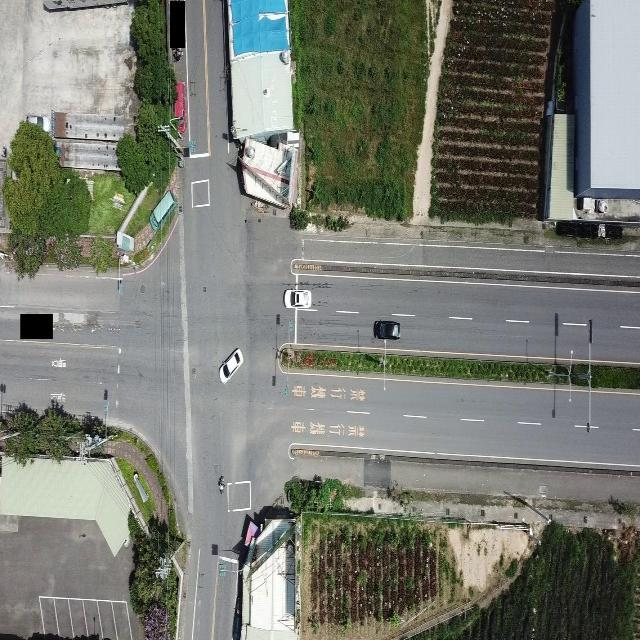car: (219, 346, 243, 382), (172, 78, 187, 135), (26, 112, 53, 136), (282, 286, 310, 308), (372, 318, 400, 338)
